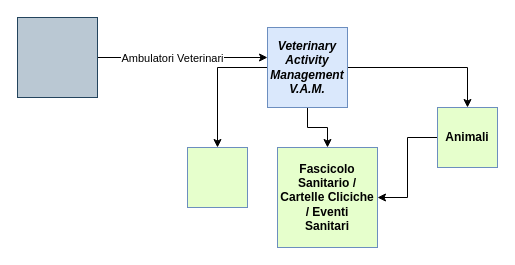
Some shapes in this 515 by 265 pixel diagram are drawn without their labels. The centre of each missing label's shape, as x and y in pixels:
"G.I.S.A." belongs at point (57, 57).
"Registro Tumori" belongs at point (217, 177).
